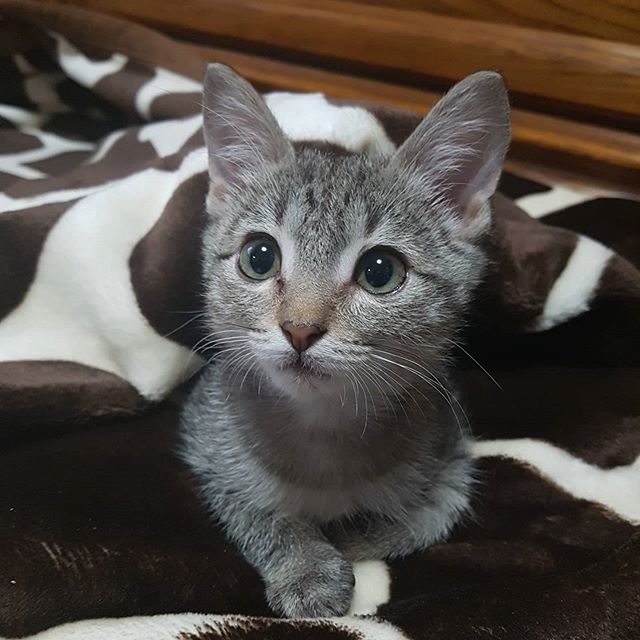cat: (197, 54, 512, 424)
